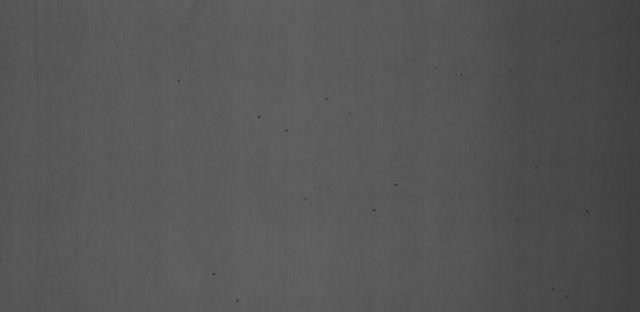inclusion: (236, 102, 268, 124), (277, 121, 298, 142), (293, 190, 317, 206), (577, 202, 596, 221), (313, 88, 335, 104), (388, 176, 409, 191), (361, 203, 382, 218), (528, 162, 544, 177), (210, 266, 224, 281), (227, 297, 244, 308)
